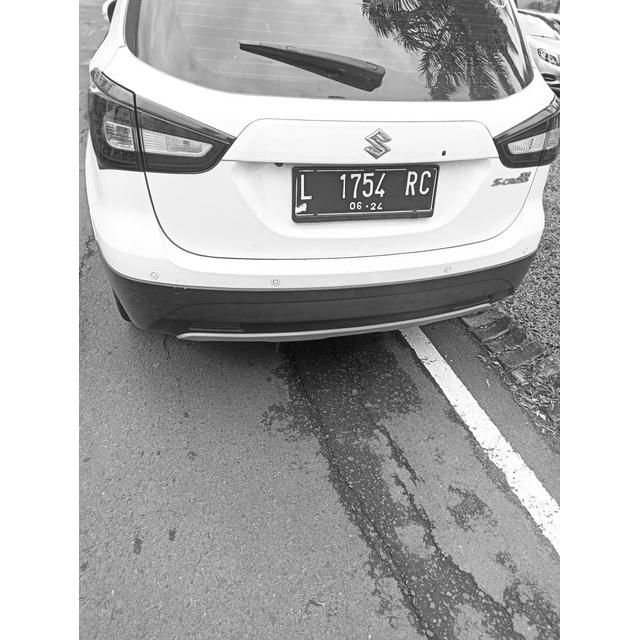license: (299, 169, 432, 211)
